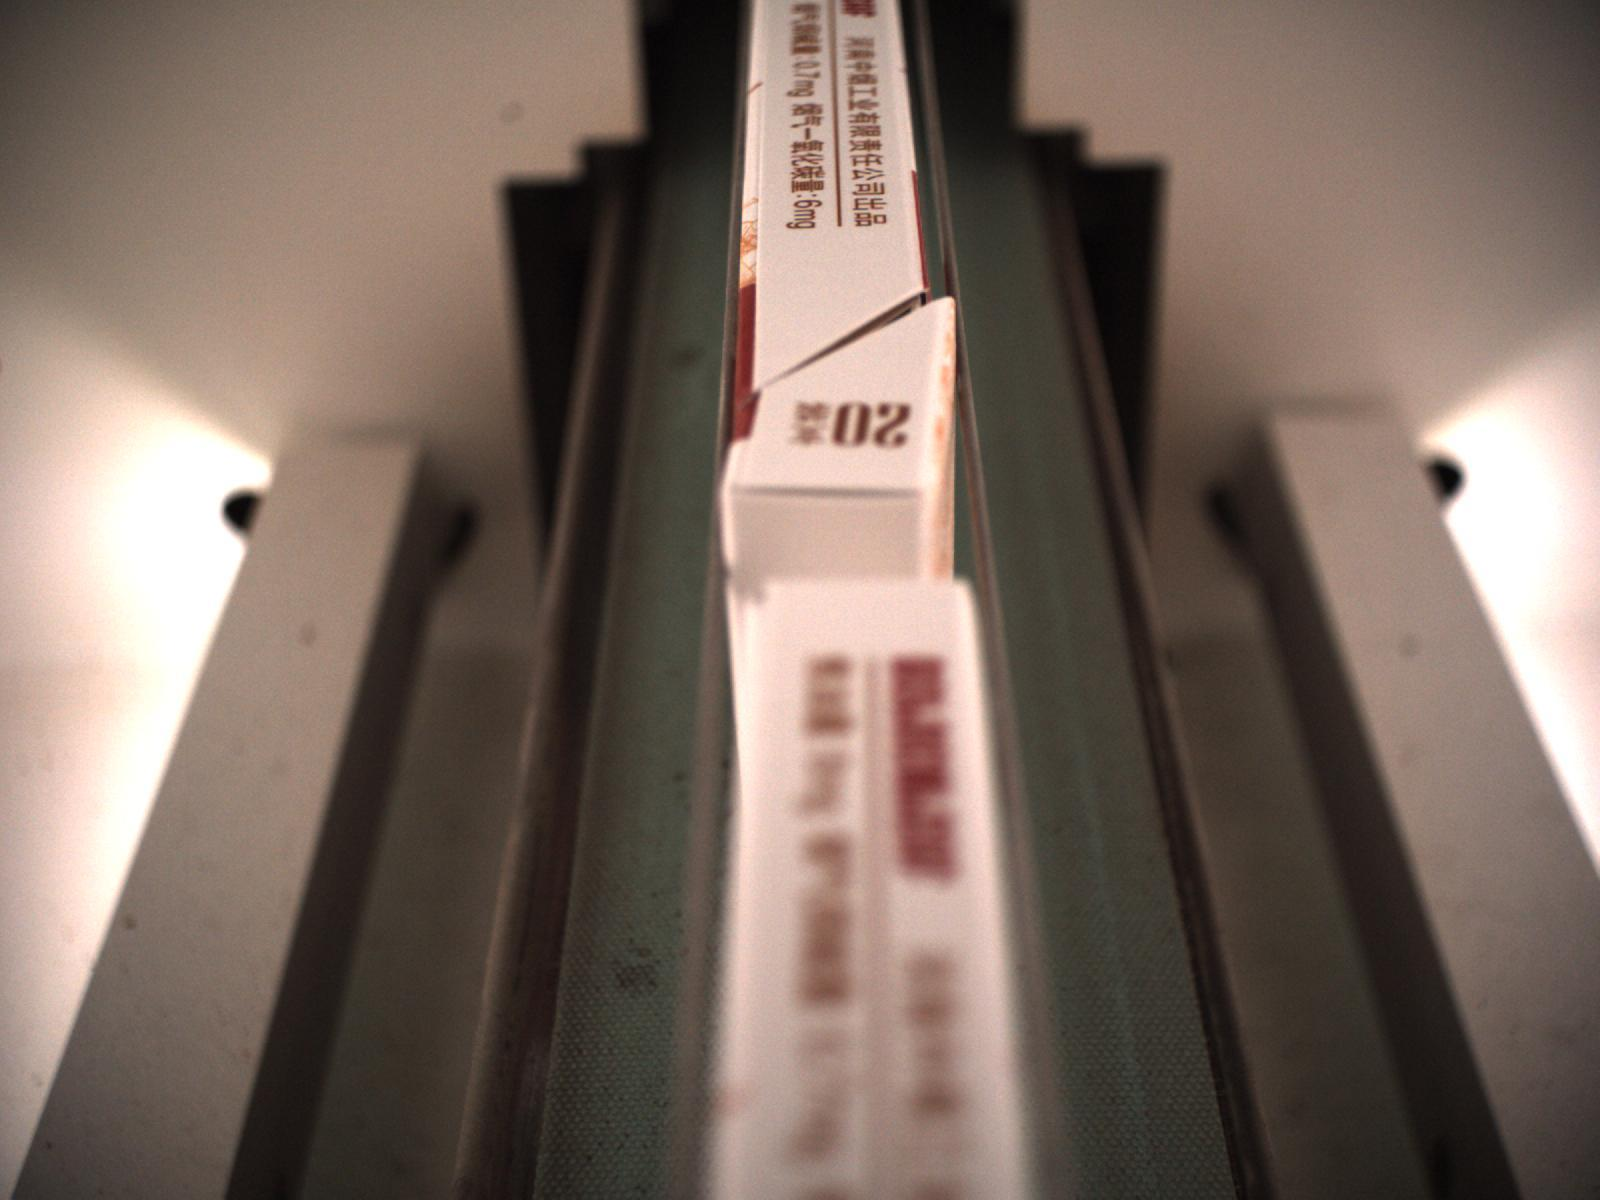headOpen_upper: (736, 284, 954, 410)
